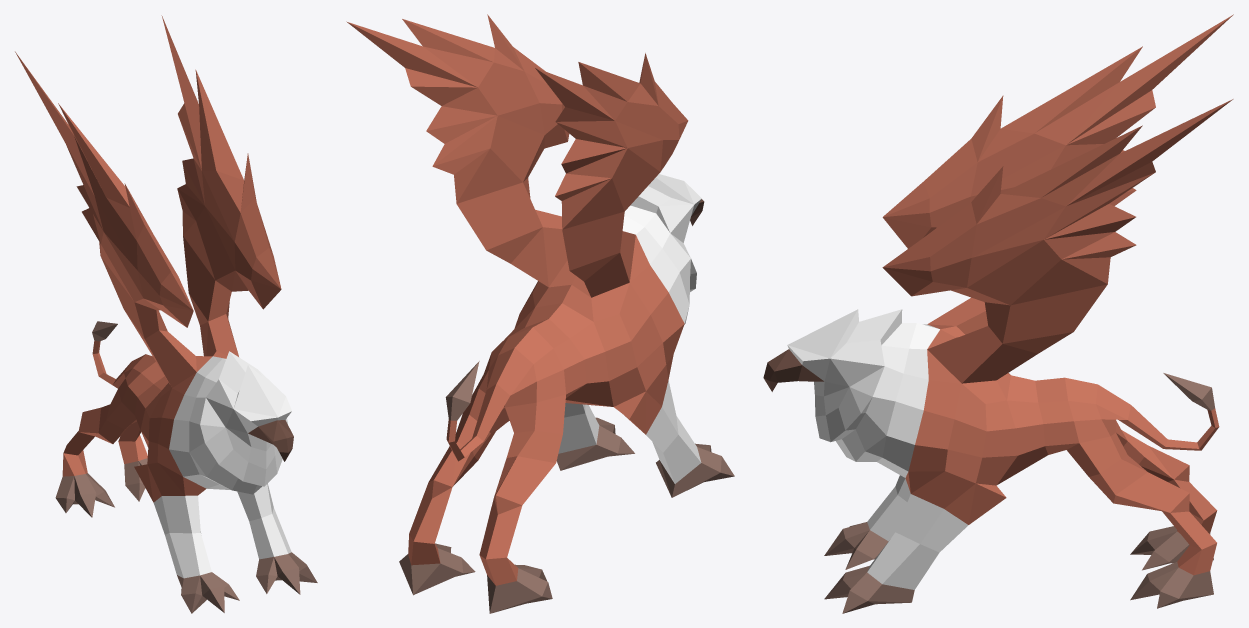
File: animal_002.fbx
3 views of the same model, side by side, from view 1: azimuth 30°, elevation 25°; view 2: azimuth 150°, elevation 25°; view 3: azimuth 270°, elevation 25° (orthographic). The views are drawn at different scales.
Visible parts, largest first — view 1: animal.002; view 2: animal.002; view 3: animal.002.
Boxes of the visible parts, bbox=[...] form: animal.002: bbox=[15, 15, 317, 613]; animal.002: bbox=[346, 14, 734, 613]; animal.002: bbox=[763, 14, 1233, 613].
Size of the model in its own units: 287 by 828 by 678.
Materials: 1 (1 with a texture image).
